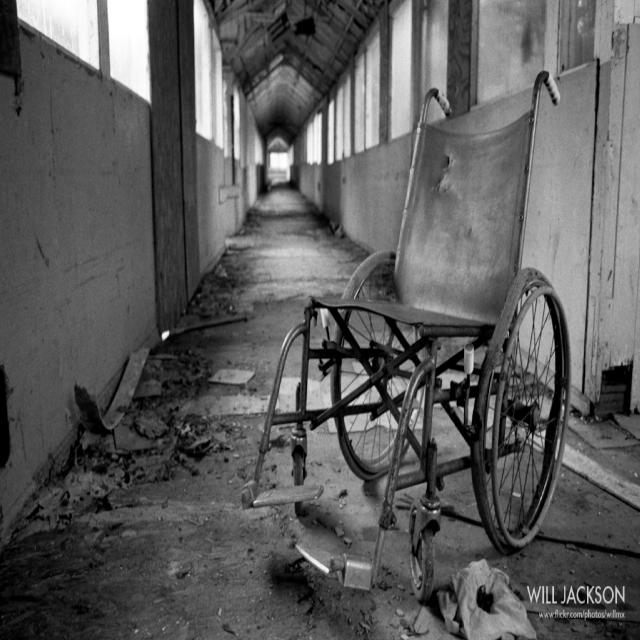wheelchairs: (266, 78, 584, 584)
